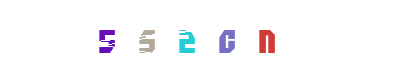2: (149, 0, 229, 80)
5: (66, 0, 146, 80)
C: (157, 0, 237, 80)
N: (226, 0, 306, 80)
S: (146, 0, 226, 80)
